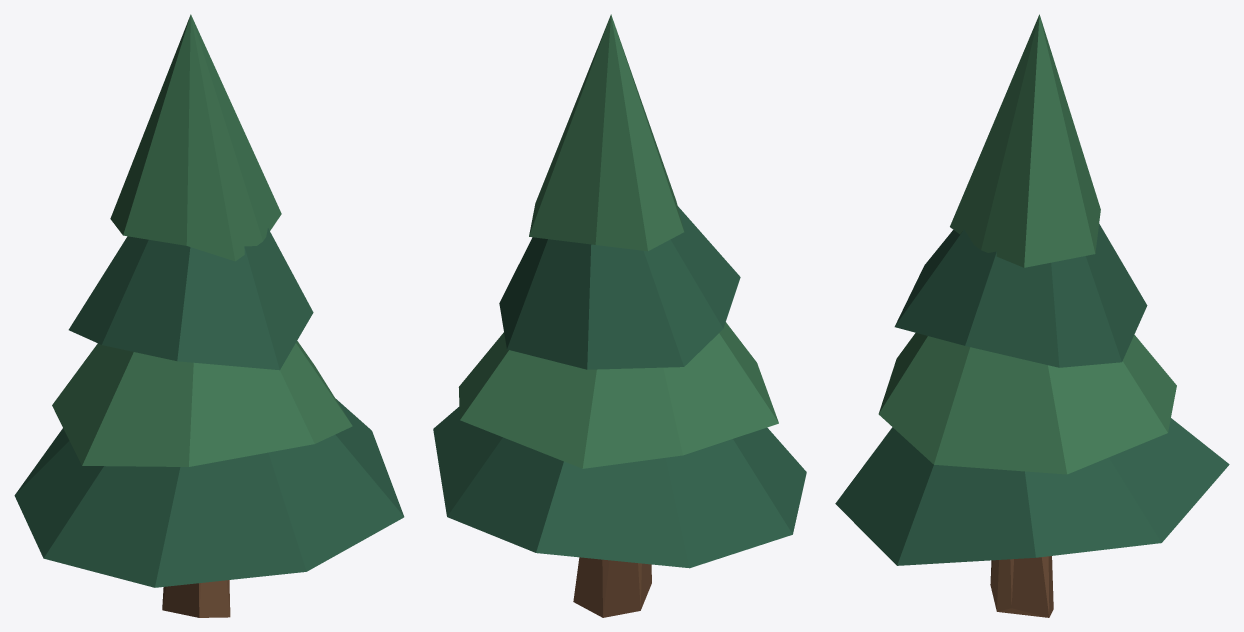
File: world_tree_conifer_l.obj
3 views of the same model, side by side, from view 1: azimuth 30°, elevation 25°; view 2: azimuth 150°, elevation 25°; view 3: azimuth 270°, elevation 25° (orthographic).
Visible parts, largest first — view 1: world_tree_conifer_l; view 2: world_tree_conifer_l; view 3: world_tree_conifer_l.
Boxes of the visible parts, left/top/right/bottom form: world_tree_conifer_l: left=14, top=14, right=404, bottom=617; world_tree_conifer_l: left=433, top=14, right=806, bottom=617; world_tree_conifer_l: left=835, top=14, right=1229, bottom=617.
Size of the model in its own units: 15.78 by 26.22 by 15.77.
